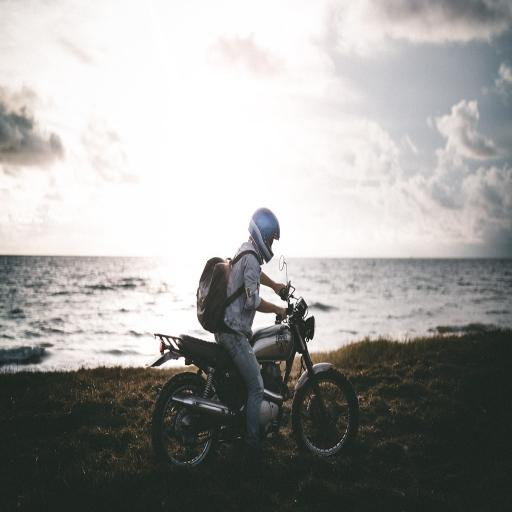Helmet: (248, 206, 280, 264)
